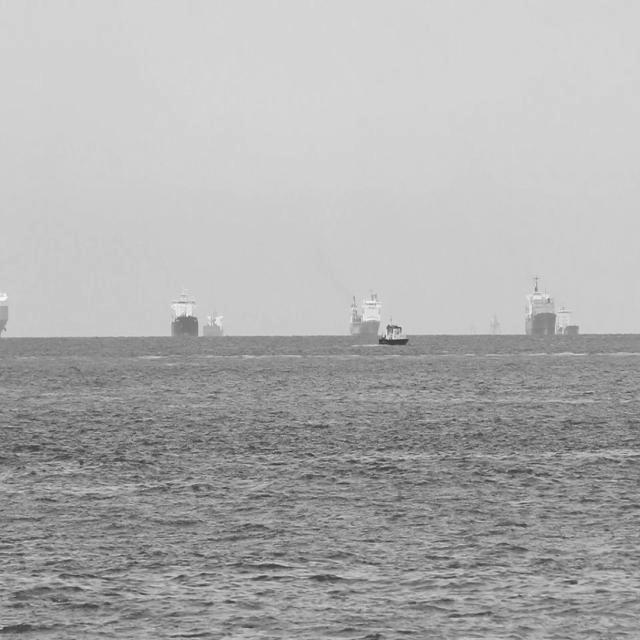ship: (520, 272, 556, 338), (345, 286, 383, 343), (169, 283, 199, 343), (376, 317, 410, 349), (555, 301, 580, 343), (204, 308, 228, 346), (488, 311, 506, 338)
